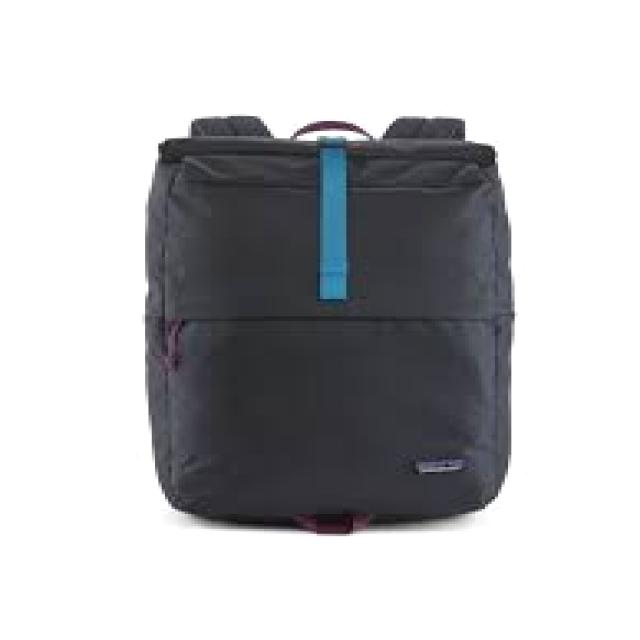backpack: (143, 113, 516, 535)
